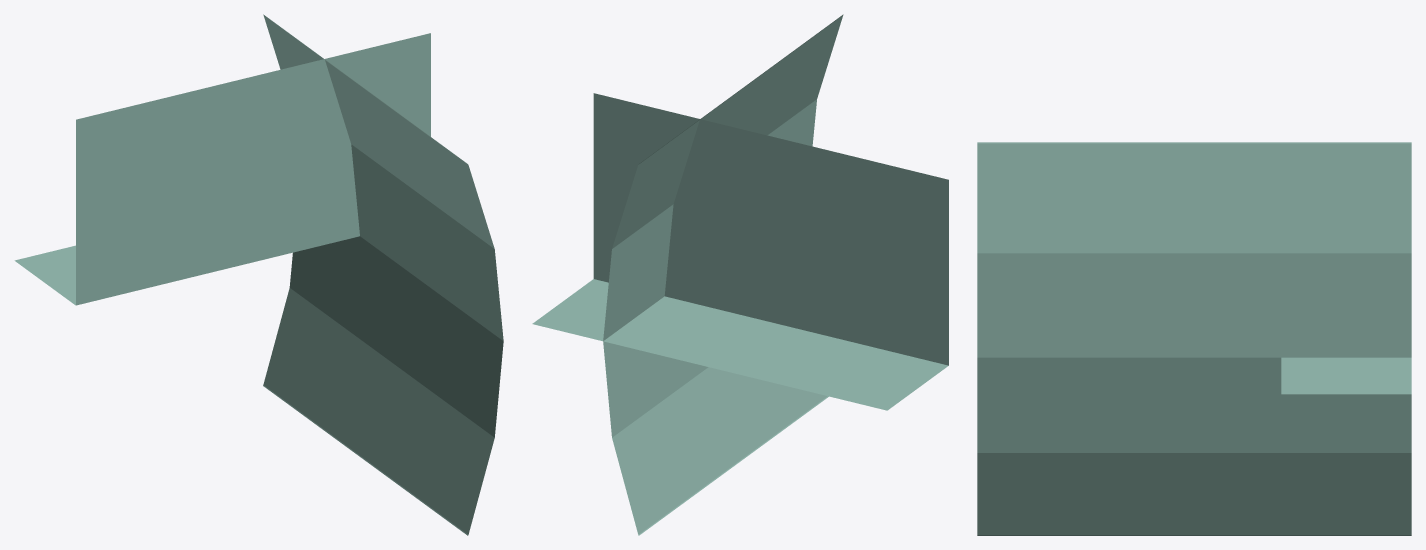
File: cell_103.obj
The picture shows the model from 3 angles, left to right: view 1: azimuth 30°, elevation 25°; view 2: azimuth 150°, elevation 25°; view 3: azimuth 270°, elevation 25°; orthographic projection. The views are drawn at different scales.
Bounding box in the file's own units: 1 × 1 × 1.
